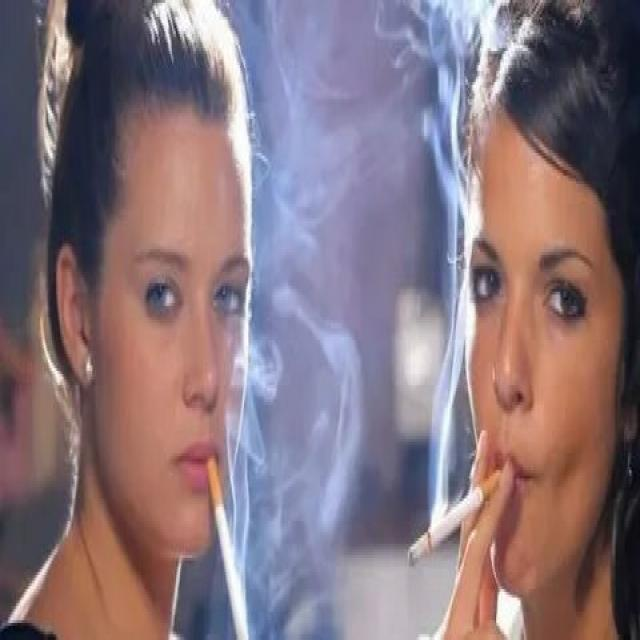smoke: (403, 458, 508, 578), (203, 442, 257, 640)
